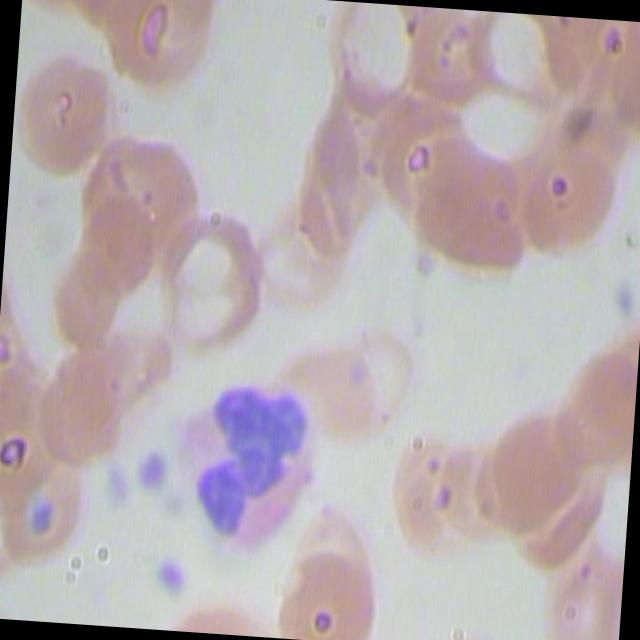Platelets: (132, 436, 172, 498), (93, 453, 133, 515), (150, 538, 190, 600)
RBC: (376, 113, 546, 290), (461, 378, 589, 558), (156, 195, 273, 366), (9, 16, 124, 188), (91, 120, 208, 277), (72, 294, 189, 451), (37, 203, 153, 360), (20, 325, 136, 482), (364, 428, 478, 568), (243, 188, 354, 312), (307, 313, 418, 437), (508, 141, 618, 265), (318, 0, 429, 122), (438, 424, 526, 572), (0, 435, 92, 574), (555, 340, 638, 491), (269, 531, 379, 640), (97, 0, 222, 93), (535, 533, 624, 640)
WBC: (165, 369, 329, 566)
